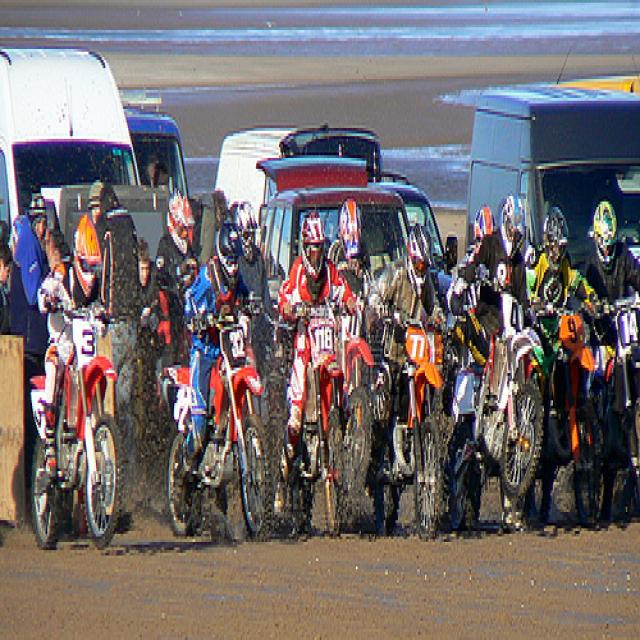motor: (450, 258, 553, 533), (156, 324, 275, 546), (29, 299, 128, 551), (293, 298, 375, 537), (377, 310, 444, 543), (553, 293, 607, 539), (441, 303, 493, 497), (598, 304, 640, 520), (341, 305, 372, 420)
